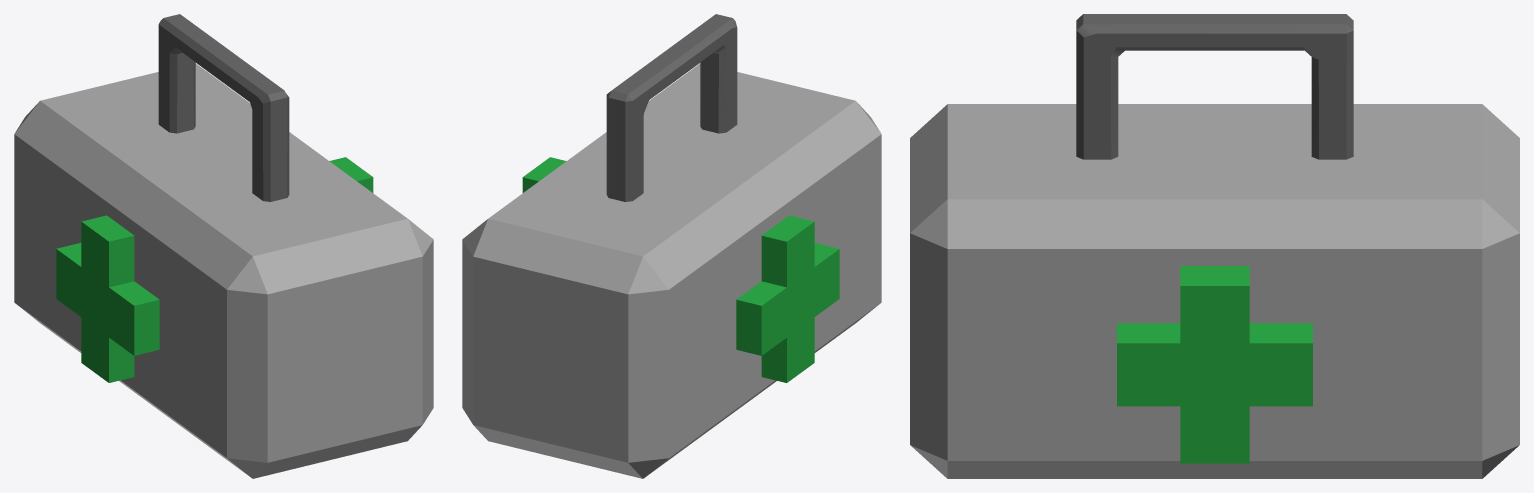
File: Medkit.fbx
The picture shows the model from 3 angles, left to right: view 1: azimuth 30°, elevation 25°; view 2: azimuth 150°, elevation 25°; view 3: azimuth 270°, elevation 25°; orthographic projection. The views are drawn at different scales.
Visible parts, largest first — view 1: medkit; view 2: medkit; view 3: medkit.
Boxes of the visible parts, x1,y1,x2,y2 form: medkit: (14,14,433,478); medkit: (462,14,881,478); medkit: (910,14,1519,478).
Bounding box in the file's own units: 5.52 × 6.55 × 8.78.
